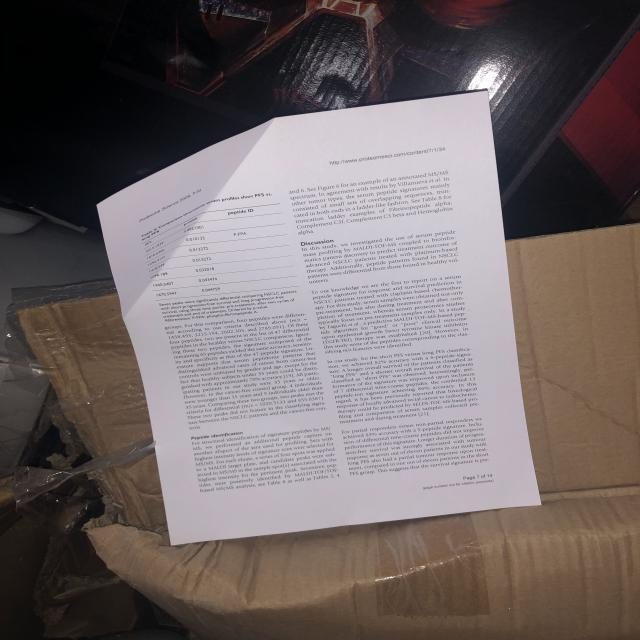kertas: (89, 90, 541, 557)
